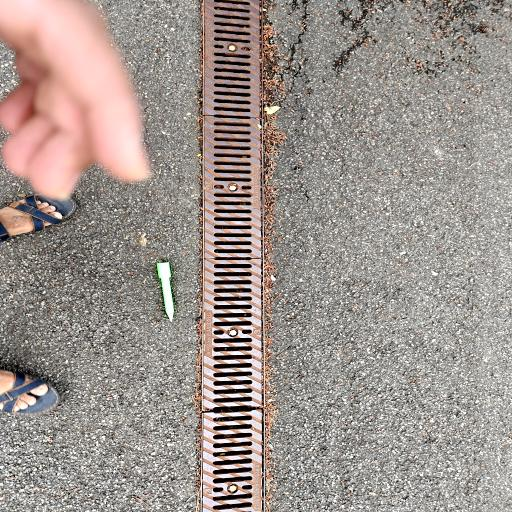Probe-Detection: (156, 262, 174, 321)
